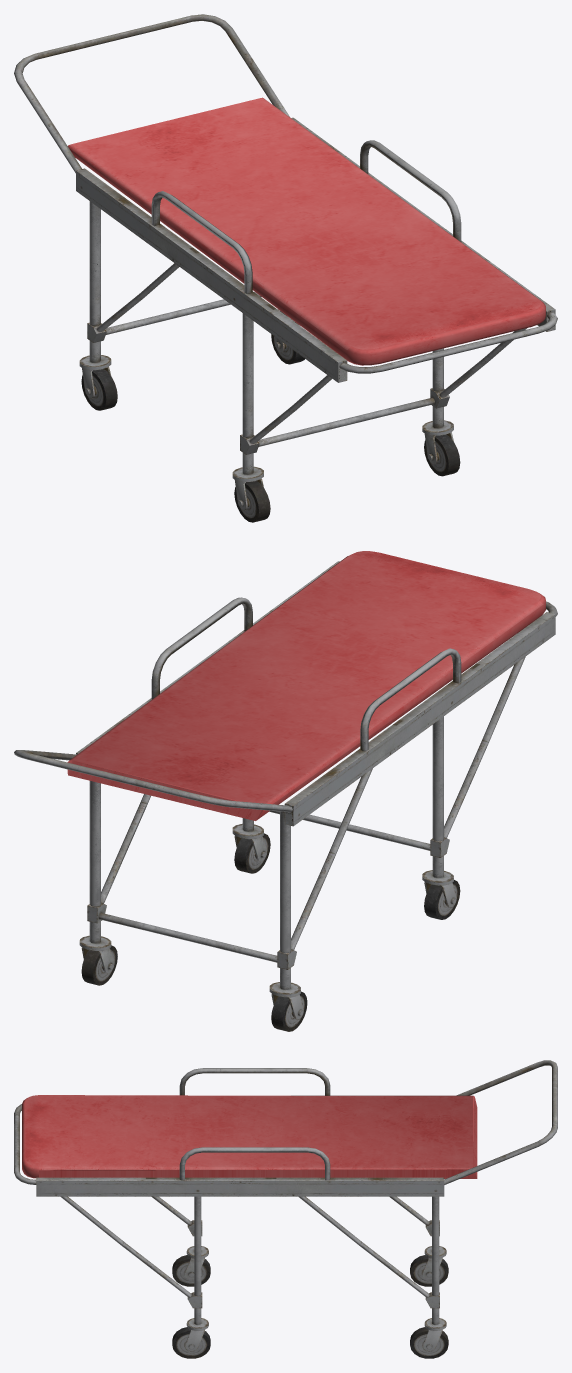
The model's file is stretcher-sketchfab-ccby.glb.
3 views of the same model, one above another, from view 1: azimuth 30°, elevation 25°; view 2: azimuth 150°, elevation 25°; view 3: azimuth 270°, elevation 25° (orthographic). The views are drawn at different scales.
Parts seen in each view (by area): view 1: Stretcher_Material #82_0; view 2: Stretcher_Material #82_0; view 3: Stretcher_Material #82_0.
Part boxes in pixels (x1,y1,x2,y2): Stretcher_Material #82_0: [14, 14, 557, 522]; Stretcher_Material #82_0: [14, 551, 557, 1031]; Stretcher_Material #82_0: [14, 1060, 557, 1358].
Size of the model in its own units: 0.72 by 0.9143 by 2.
1 material, 1 textured.
